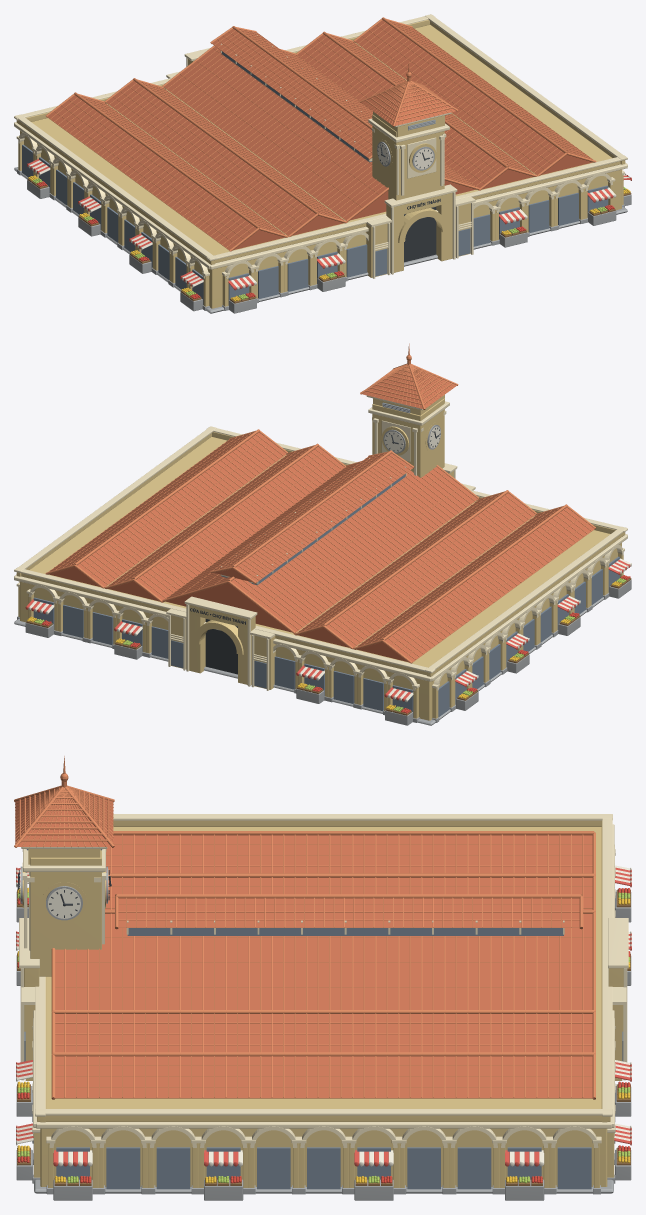
The model's file is chobenthanh-model.glb.
The picture shows the model from 3 angles, top to bottom: view 1: azimuth 30°, elevation 25°; view 2: azimuth 150°, elevation 25°; view 3: azimuth 270°, elevation 25°; orthographic projection. The views are drawn at different scales.
Visible parts, largest first — view 1: Gabled hall roof, Finial ball, Arcade pier, Clock inset panel, Lantern louver, Clock bezel, Clock face, Clock central pin, Scalloped canvas valance, Wood produce bin; view 2: Gabled hall roof, Finial ball, Arcade pier, Clock inset panel, Lantern louver, Clock bezel, Clock face, Clock central pin, Scalloped canvas valance, Wood produce bin; view 3: Gabled hall roof, Finial ball, Arcade pier, Clock inset panel, Lantern louver, Clock bezel, Clock face, Scalloped canvas valance, Wood produce bin, Market fruit, Market fruit.032, Market fruit.016.
Boxes of the visible parts, x1,y1,x2,y2 form: Gabled hall roof: (47,20,592,249); Finial ball: (45,17,596,251); Arcade pier: (16,19,625,308); Clock inset panel: (14,14,627,278); Lantern louver: (22,51,608,305); Clock bezel: (14,120,631,313); Clock face: (28,143,630,289); Clock central pin: (377,144,440,262); Scalloped canvas valance: (27,159,631,290); Wood produce bin: (27,178,631,303); Gabled hall roof: (49,370,594,662); Finial ball: (45,343,595,663); Arcade pier: (16,395,625,720); Clock inset panel: (14,395,627,690); Lantern louver: (33,402,619,717); Clock bezel: (14,403,631,725); Clock face: (28,426,631,702); Clock central pin: (190,427,440,674); Scalloped canvas valance: (25,560,630,701); Wood produce bin: (26,578,631,715); Gabled hall roof: (15,793,592,1097); Finial ball: (14,756,595,1099); Arcade pier: (22,820,623,1187); Clock inset panel: (19,814,628,1147); Lantern louver: (24,849,623,1189); Clock bezel: (16,849,631,1200); Clock face: (16,865,631,1166); Scalloped canvas valance: (16,867,631,1166); Wood produce bin: (17,889,630,1185); Market fruit: (17,887,630,1183); Market fruit.032: (17,888,630,1183); Market fruit.016: (17,892,630,1183).
Bounding box in the file's own units: 34.25 × 14.67 × 28.34.
